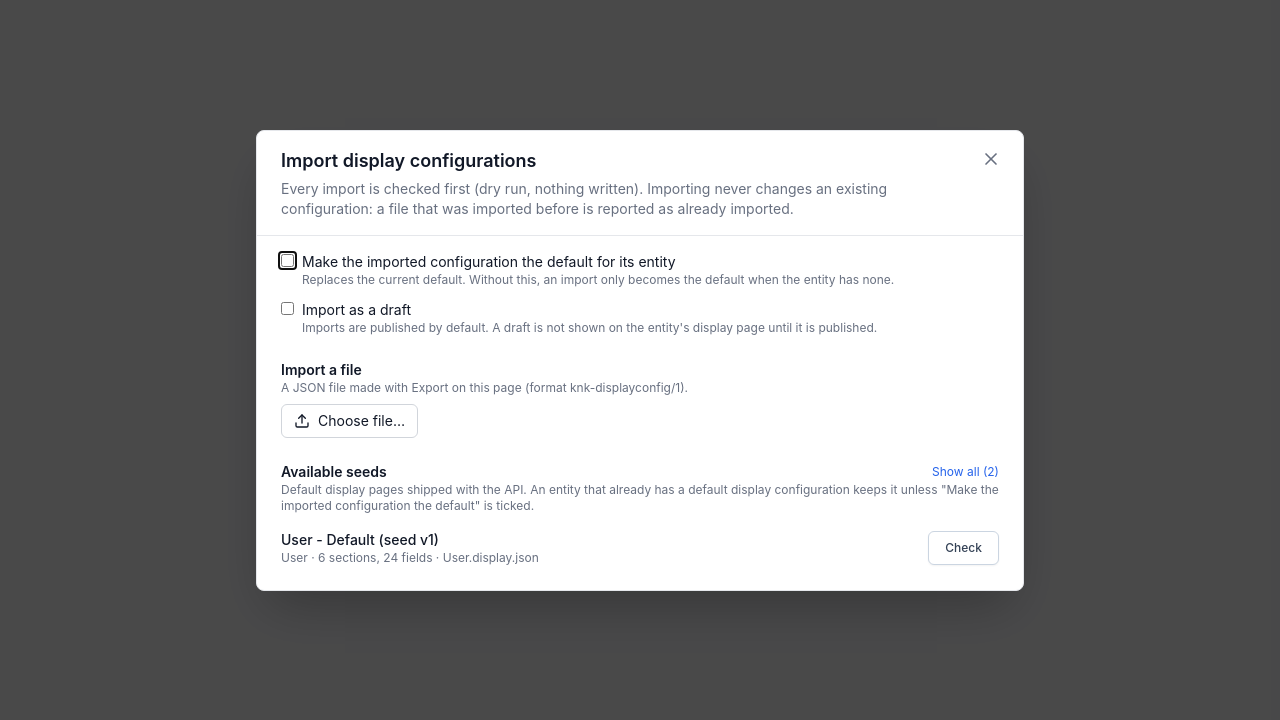
Test: DisplayConfigurationImportPanel (knk-displayconfig/1) › checks a seed with "make default", then imports it and refreshes the list
The width and height of the screenshot is (1280, 720).
expect the list item with aria-label "Seed User.display" shows "User · 6 sections, 24 fields · User.display.json": met, box [281, 522, 999, 574]
Click the checkbox labelled "Make the imported configuration the default" at (288, 260), box [281, 254, 294, 266]
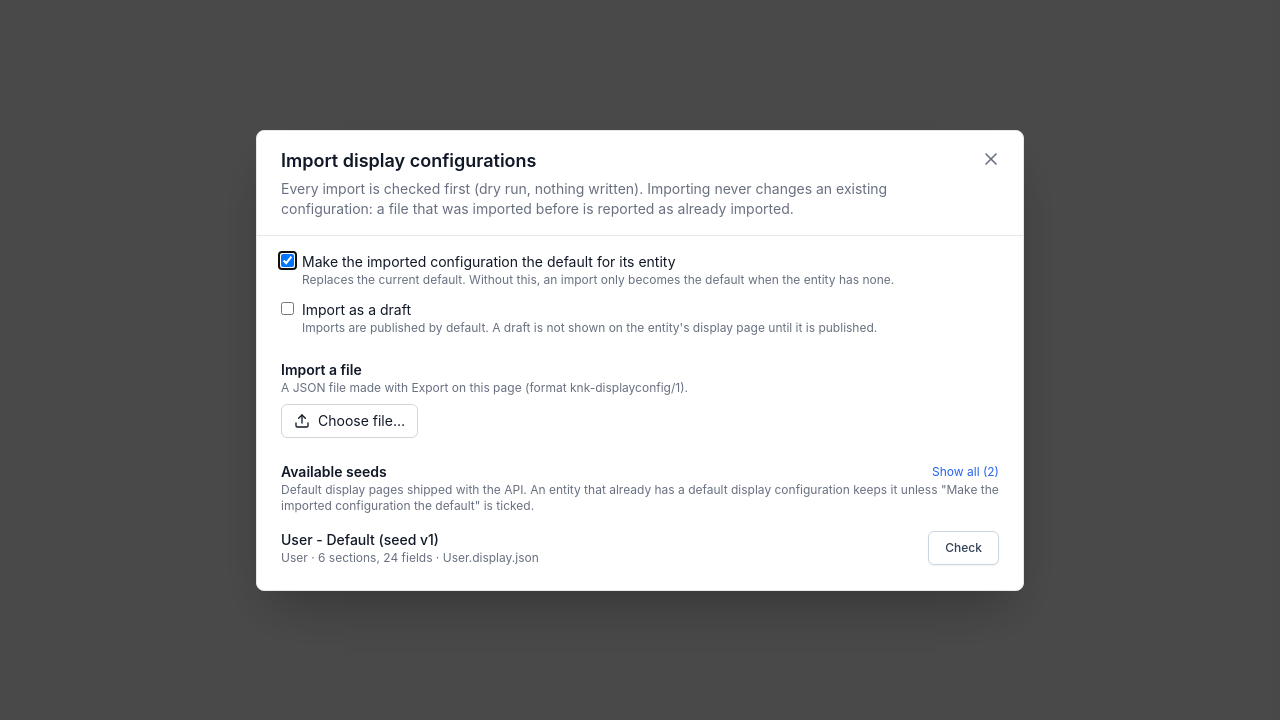
Click the button "Check" at (964, 548), box [928, 530, 999, 564]
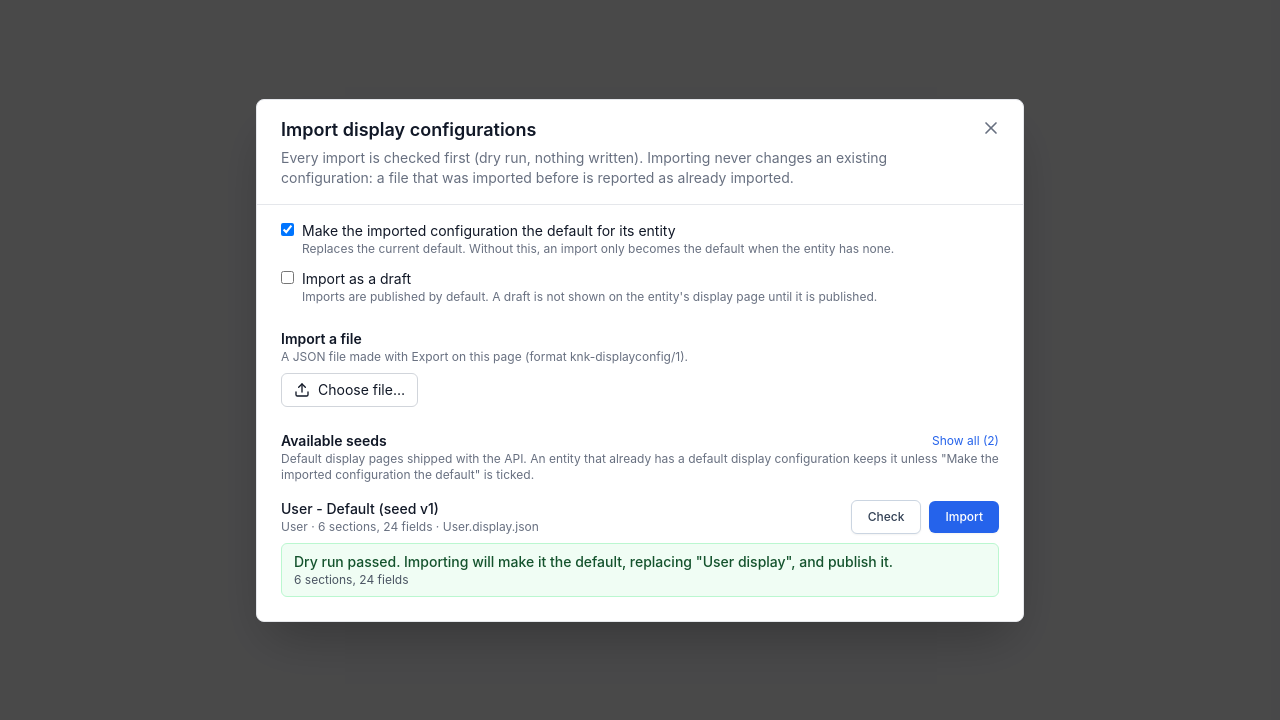
expect the message named "Result for User.display" shows "Dry run passed. Importing will make it the default, replacing \"User display\", and publish it.": met, box [294, 552, 893, 570]
Click the button "Import" at (964, 516), box [930, 500, 999, 532]
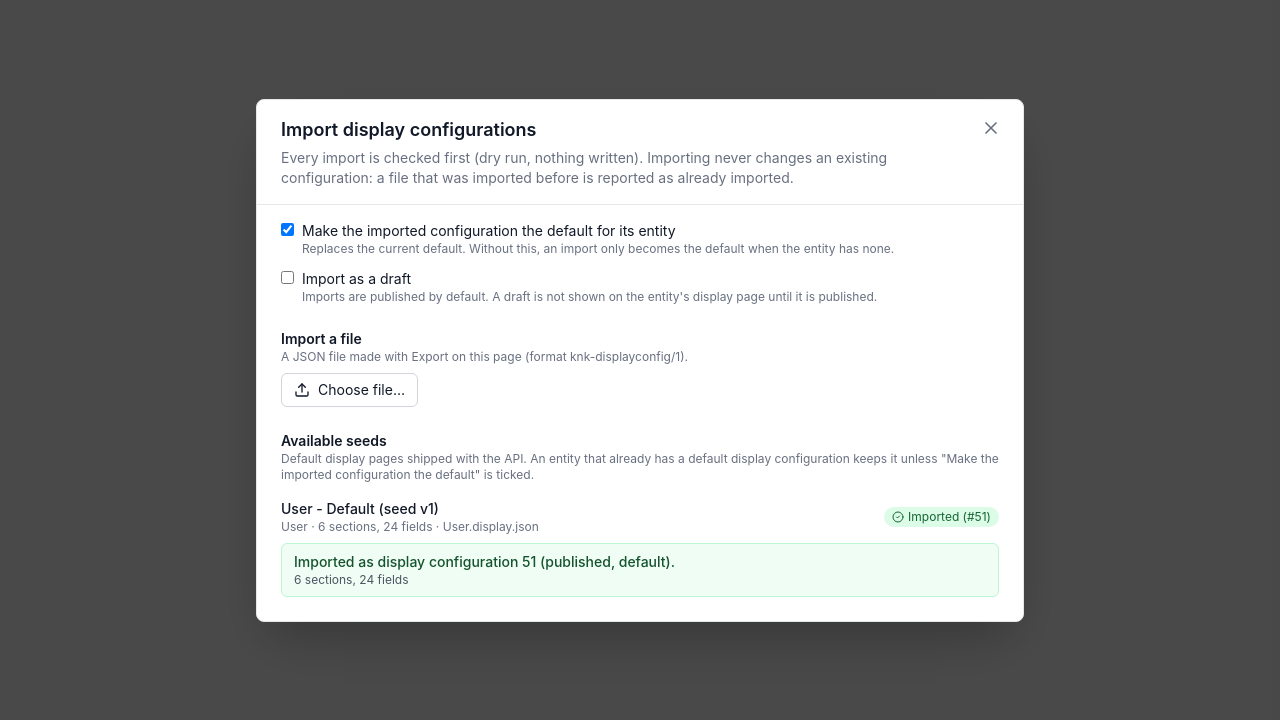
expect the text "Imported (#51)" is shown: met, box [884, 506, 999, 526]
